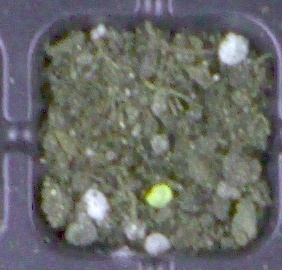chilli seed: (144, 183, 173, 207)
